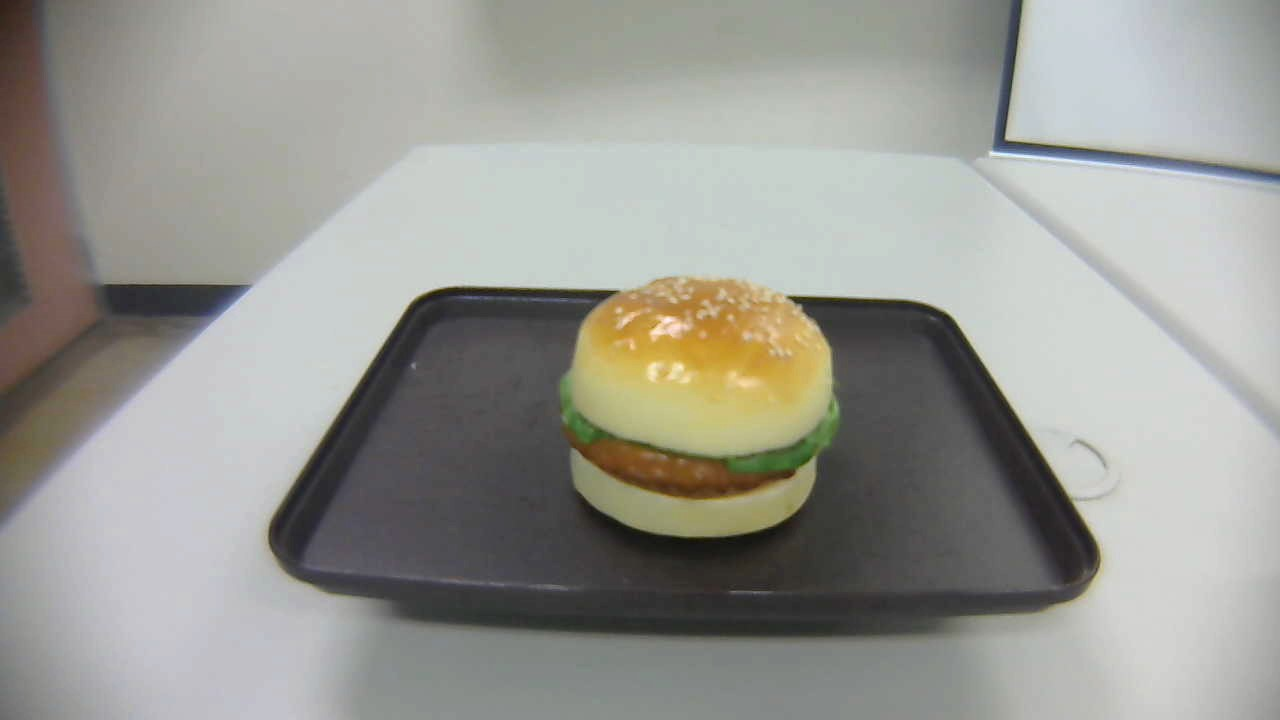hamburger: (556, 276, 840, 542)
